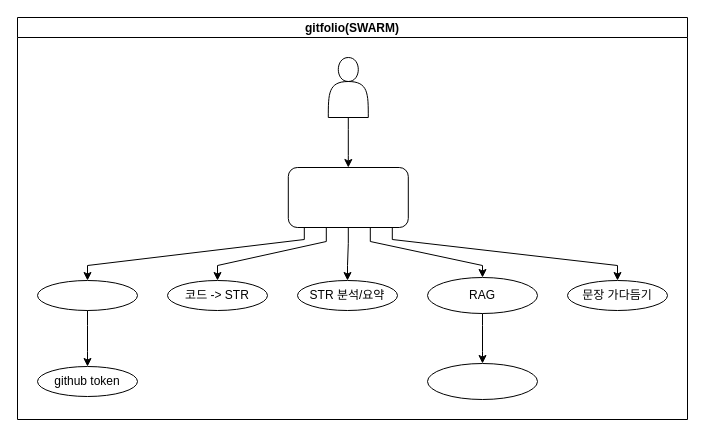
Some shapes in this 705 by 437 pixel diagram are drawn without their labels. The shapes that lost their labels are listed below. From the top down, each one's centre as x and y in pixels, then its label:
the point at 347,197: supervisor
the point at 87,295: 레포 분석
the point at 482,381: 샘플이력서.pdf
